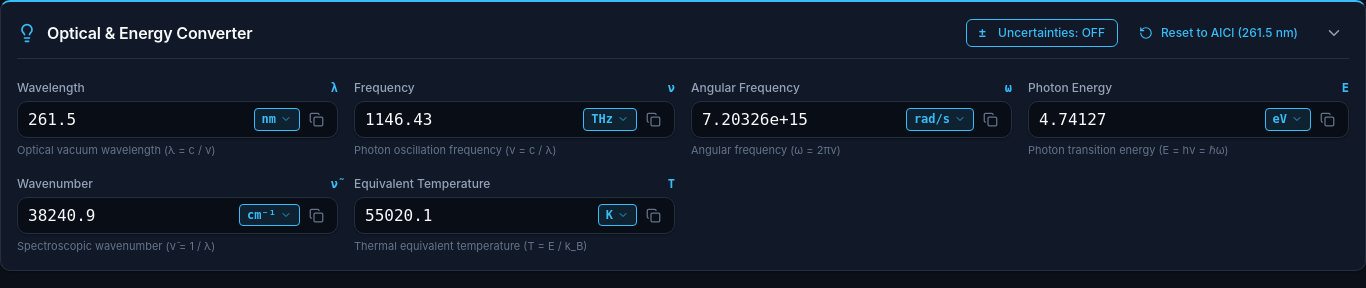
Test case: OpticalConverter AlCl Defaults and Reset › resets back to 261.5 nm and nm unit after modifications
The width and height of the screenshot is (1366, 288).
Replace the text in the field named "Wavelength in nm" with "500": (138, 120) [28,105,248,134]
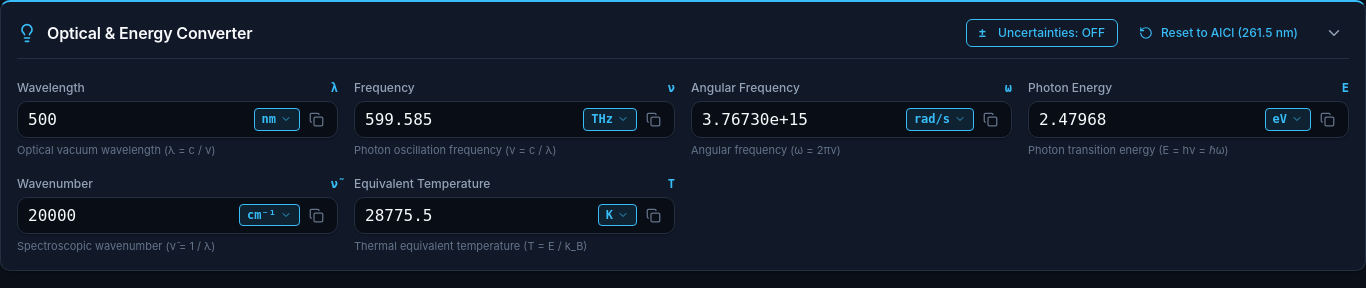
Click the button "Reset to AlCl (261.5 nm)": (1218, 33) [1126,19,1311,47]
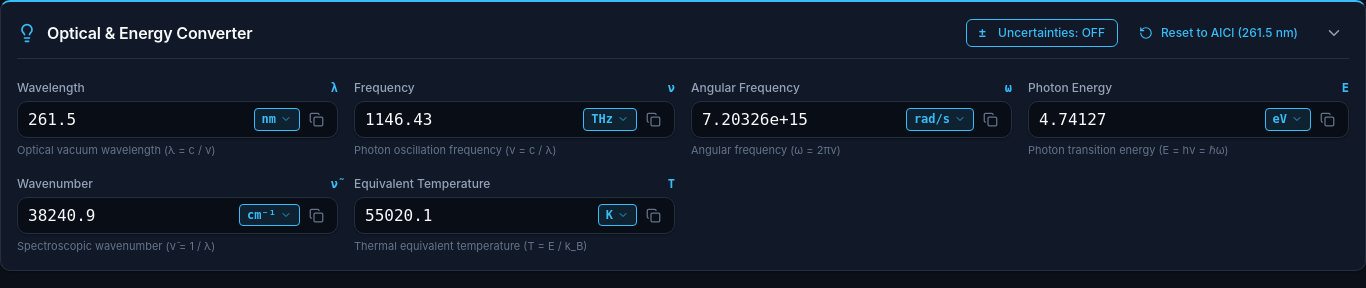
Expected: the field named "Wavelength in nm" holds "261.5", [28,105,248,134]
